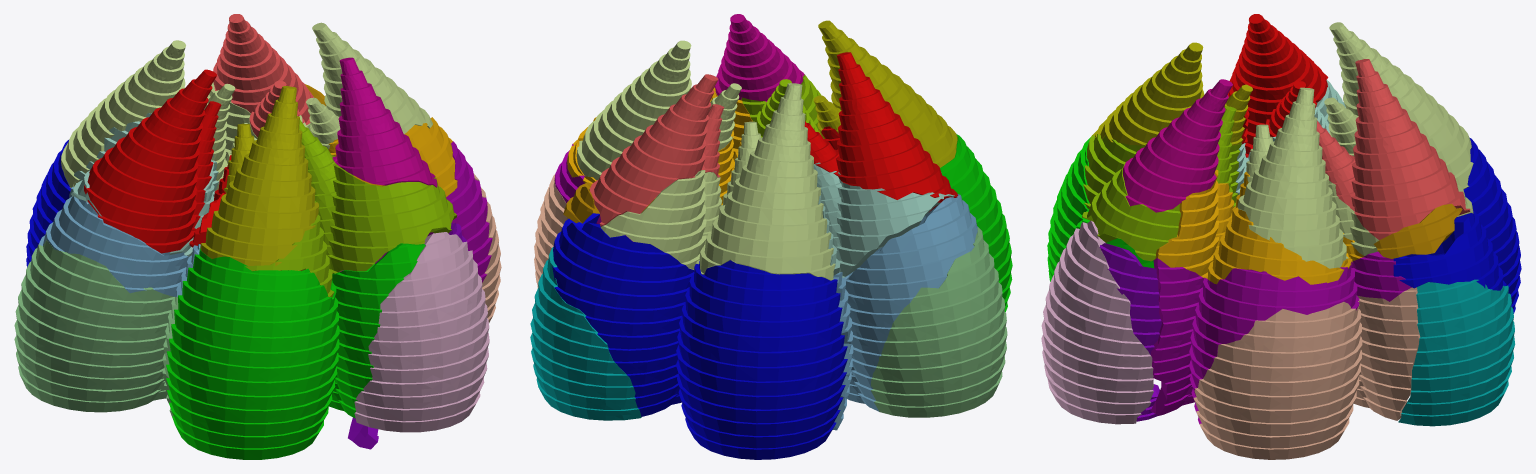
File: fractured_66_20pcs.glb
The picture shows the model from 3 angles, left to right: view 1: azimuth 30°, elevation 25°; view 2: azimuth 150°, elevation 25°; view 3: azimuth 270°, elevation 25°; orthographic projection.
Visible parts, largest first — view 1: piece_8.obj, piece_3.obj, piece_6.obj, piece_9.obj, piece_5.obj, piece_15.obj, piece_11.obj, piece_17.obj, piece_2.obj, piece_1.obj, piece_12.obj, piece_0.obj (+4 smaller); view 2: piece_10.obj, piece_5.obj, piece_3.obj, piece_2.obj, piece_9.obj, piece_14.obj, piece_1.obj, piece_4.obj, piece_11.obj, piece_17.obj, piece_8.obj, piece_0.obj (+4 smaller); view 3: piece_7.obj, piece_5.obj, piece_12.obj, piece_6.obj, piece_14.obj, piece_1.obj, piece_0.obj, piece_10.obj, piece_17.obj, piece_15.obj, piece_9.obj, piece_11.obj (+4 smaller).
Part boxes in pixels (x1,y1,x2,y2): piece_8.obj: (166, 243, 425, 459); piece_3.obj: (14, 240, 178, 417); piece_6.obj: (354, 232, 489, 432); piece_9.obj: (84, 69, 231, 253); piece_5.obj: (61, 22, 432, 190); piece_15.obj: (245, 119, 457, 297); piece_11.obj: (200, 86, 318, 266); piece_17.obj: (332, 57, 437, 187); piece_2.obj: (38, 187, 200, 297); piece_1.obj: (213, 14, 313, 137); piece_12.obj: (340, 141, 492, 282); piece_0.obj: (328, 117, 457, 196); piece_10.obj: (552, 213, 847, 459); piece_5.obj: (576, 40, 835, 280); piece_3.obj: (871, 227, 1007, 417); piece_2.obj: (831, 172, 978, 430); piece_9.obj: (804, 52, 957, 212); piece_14.obj: (530, 247, 641, 420); piece_1.obj: (589, 74, 724, 226); piece_4.obj: (813, 162, 954, 277); piece_11.obj: (813, 20, 957, 167); piece_17.obj: (714, 14, 804, 101); piece_8.obj: (940, 134, 1012, 312); piece_0.obj: (567, 87, 752, 212); piece_7.obj: (1193, 287, 1420, 459); piece_5.obj: (1237, 22, 1473, 268); piece_12.obj: (1150, 251, 1411, 424); piece_6.obj: (1041, 220, 1153, 424); piece_14.obj: (1398, 279, 1515, 426); piece_1.obj: (1316, 59, 1470, 239); piece_0.obj: (1154, 170, 1364, 284); piece_10.obj: (1393, 138, 1521, 313); piece_17.obj: (1123, 79, 1232, 212); piece_15.obj: (1082, 106, 1241, 261); piece_9.obj: (1227, 14, 1328, 157); piece_11.obj: (1091, 42, 1252, 145).
Size of the model in its own units: 1.01 by 0.7567 by 0.9219.
